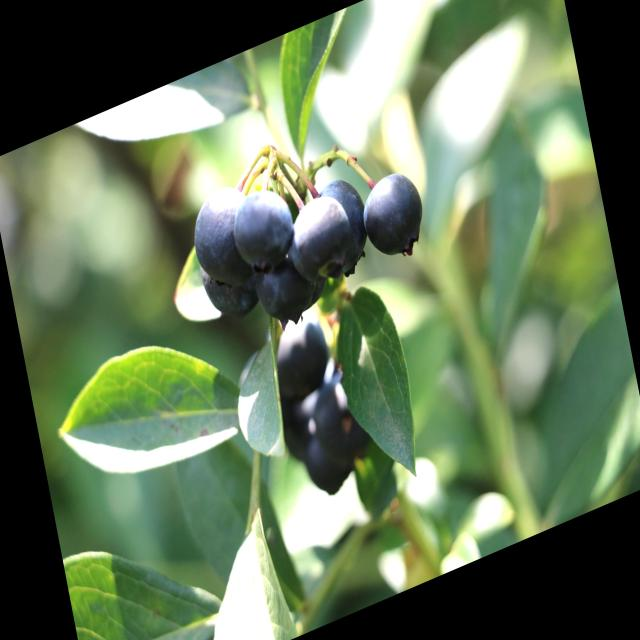blueberry: (288, 185, 358, 288), (189, 181, 257, 287), (358, 165, 428, 267), (310, 363, 377, 467), (267, 305, 333, 401), (319, 172, 376, 276), (231, 185, 295, 272), (254, 243, 315, 329), (272, 378, 327, 462)
